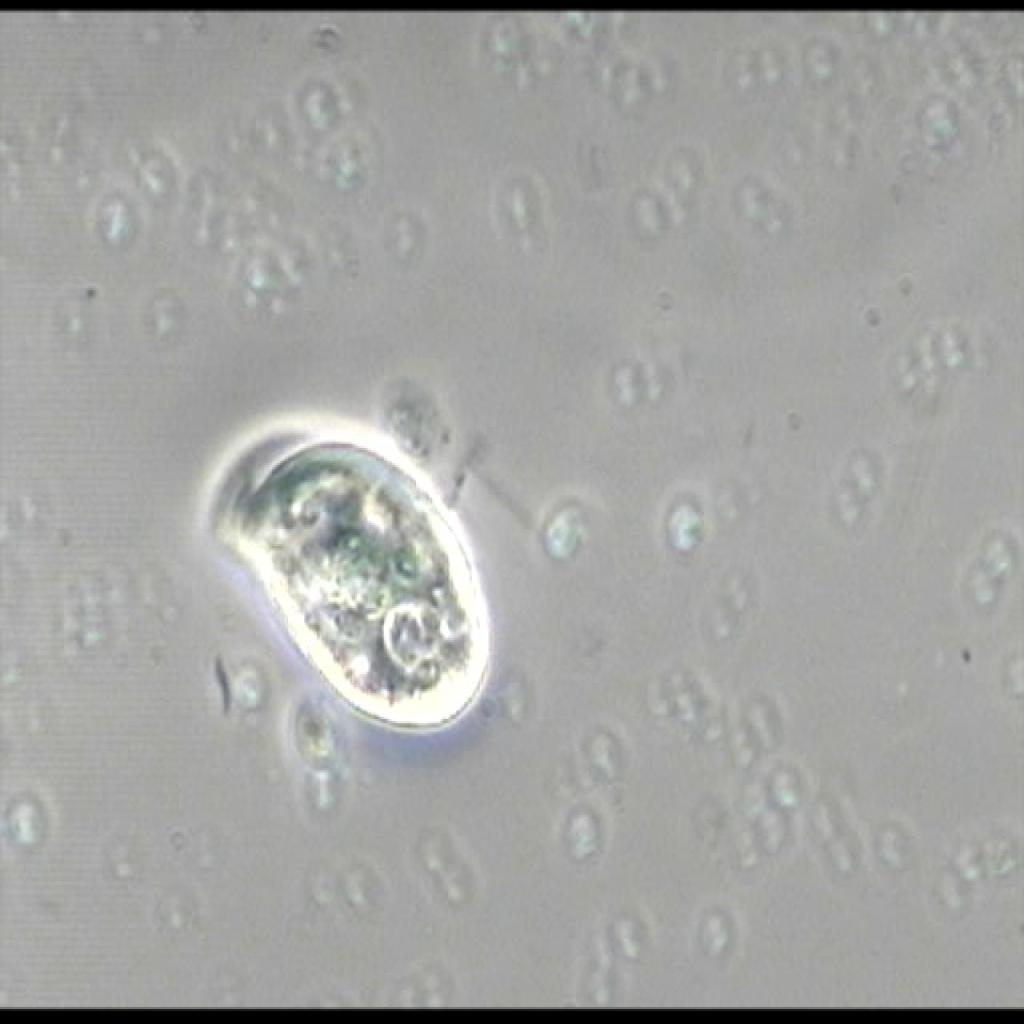Chilodonella: (178, 404, 523, 744)
